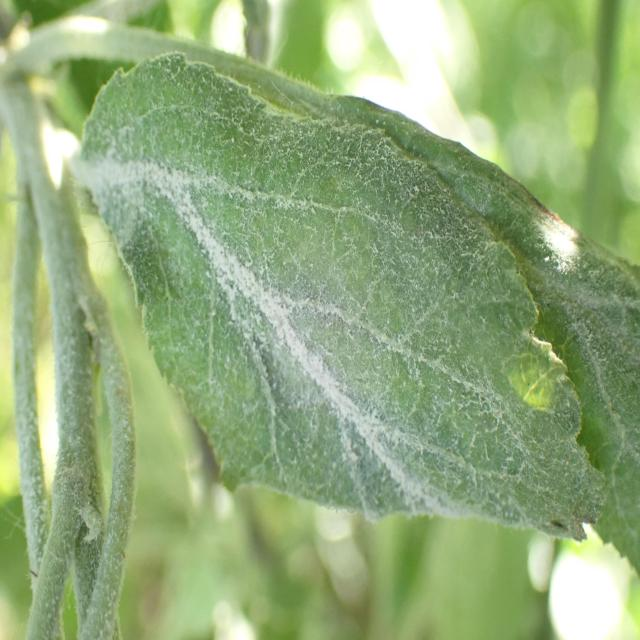Powdery_mildew: (60, 53, 610, 560), (318, 87, 640, 573)
